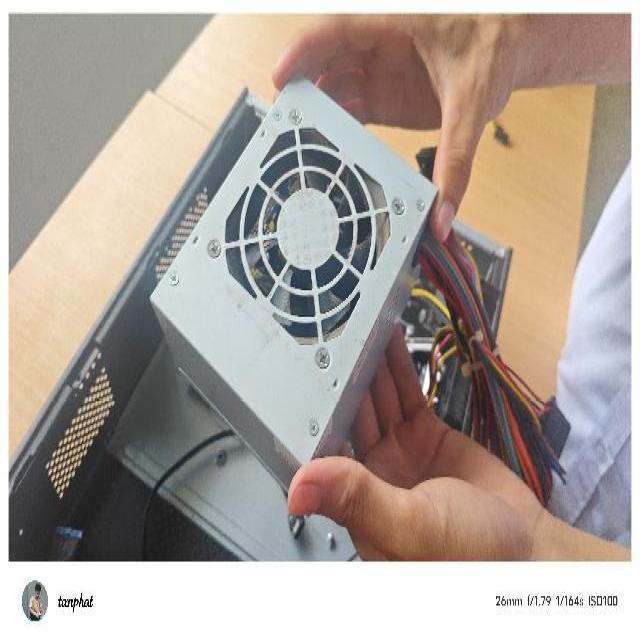PSU: (149, 62, 456, 500)
